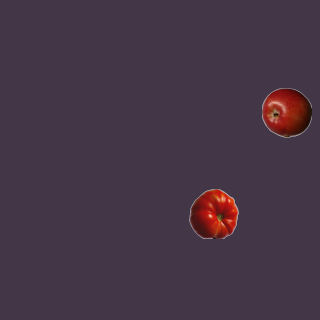Apple Braeburn: (261, 87, 311, 137)
Tomato 3: (188, 188, 238, 238)
